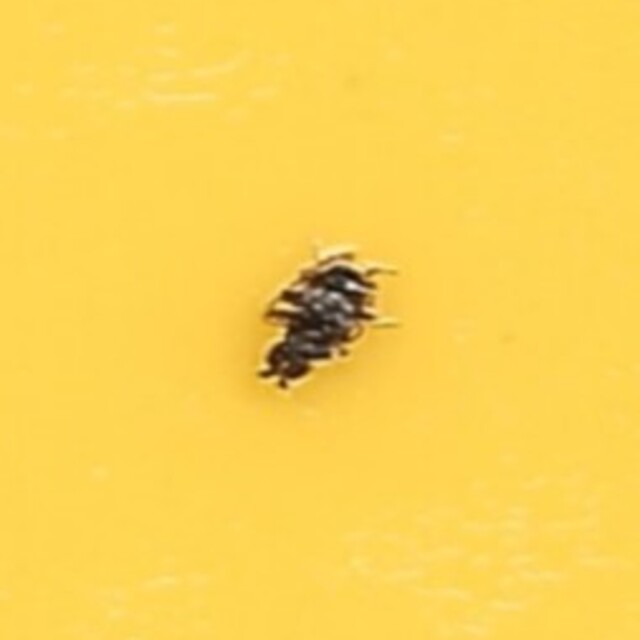Brachycera: (253, 245, 387, 395)
